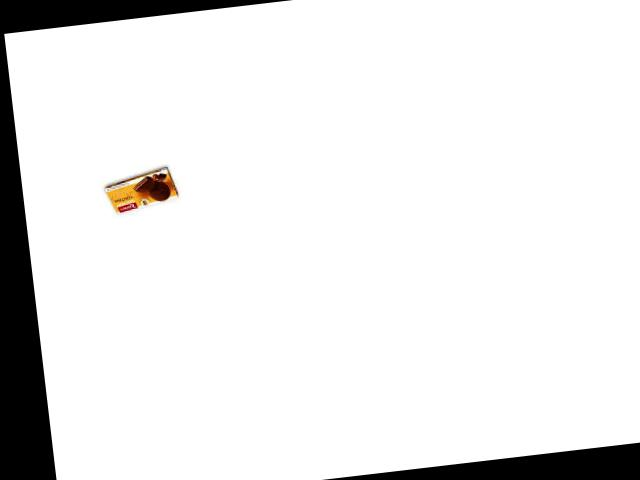chocolate: (92, 172, 184, 216)
